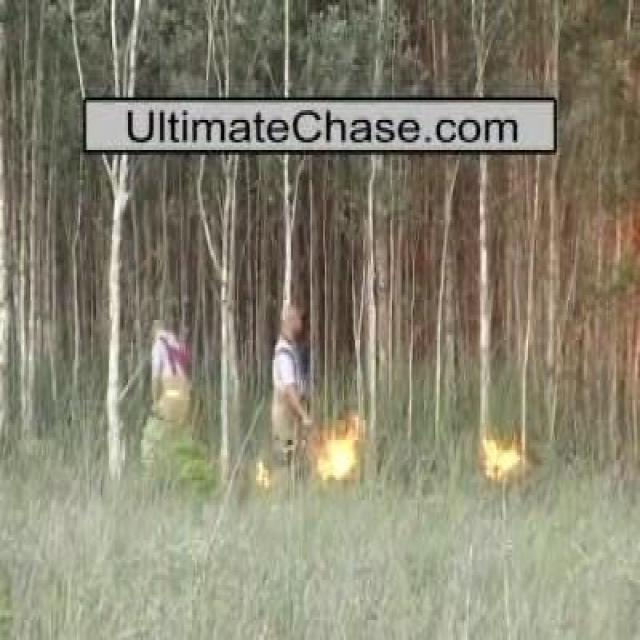fire: (481, 424, 537, 496), (310, 419, 362, 494), (251, 454, 270, 488)
other: (154, 377, 188, 414)
